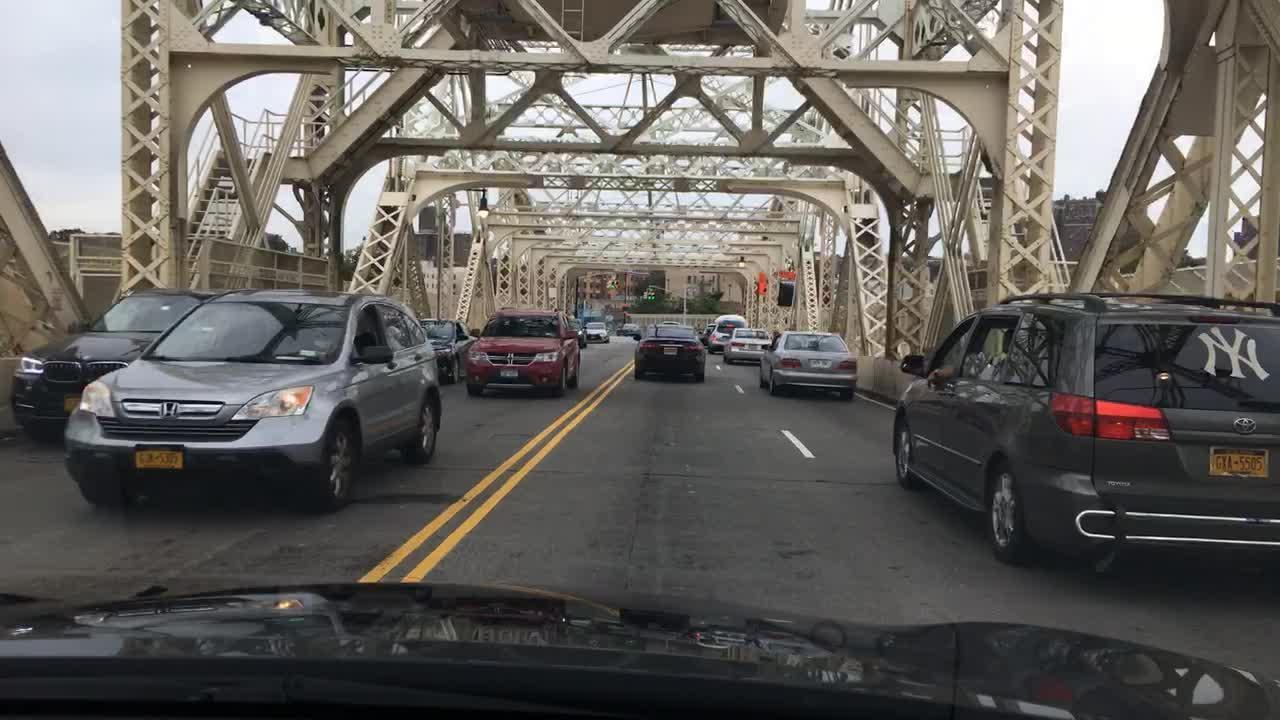Honda: (152, 395, 185, 425)
Toyota: (1223, 410, 1265, 441)
bmw: (75, 348, 97, 368)
